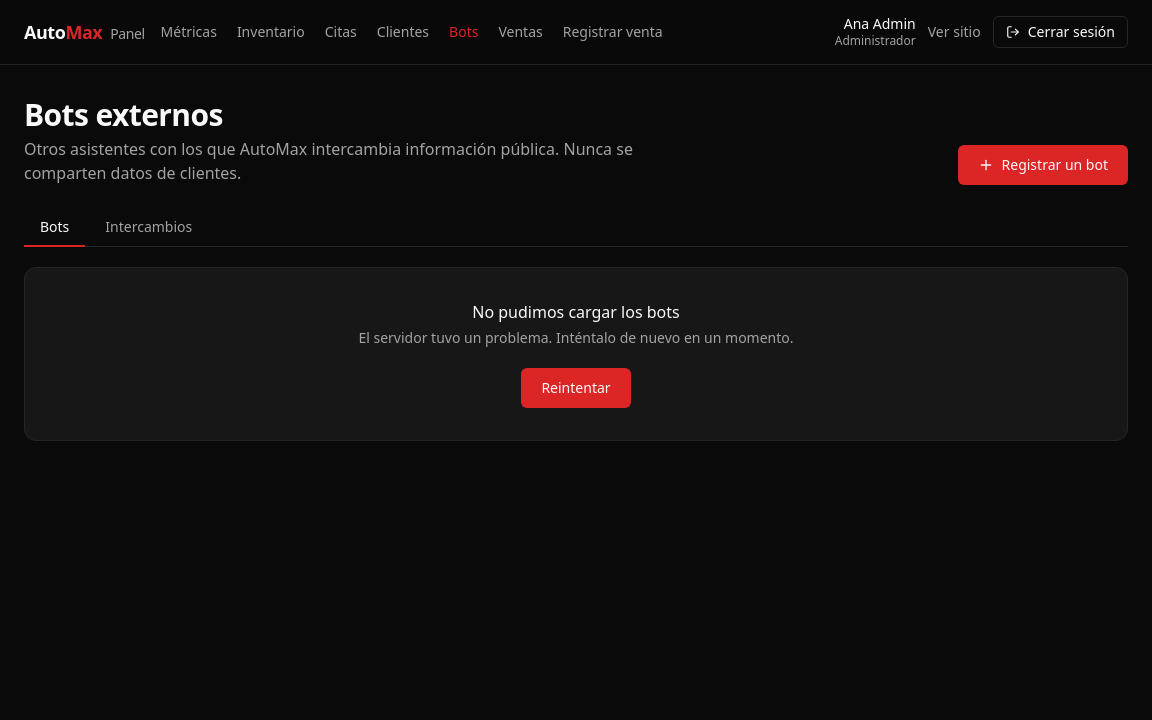
lista de bots › si la lista falla muestra el error y deja reintentar
Expected: the text "No pudimos cargar los bots" is shown, [472,301,680,323]
Click the button "Reintentar" at (576, 388), box [521,368,631,408]
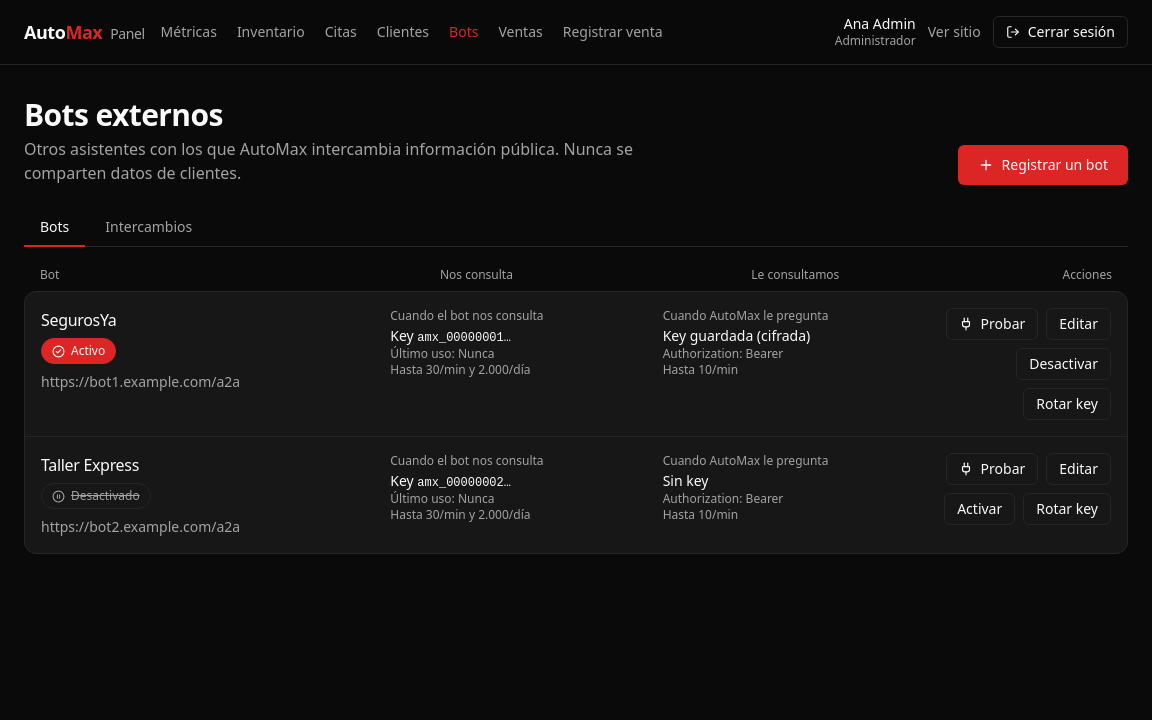
Now the list named "Bots" is shown, box [24,291,1128,554]
